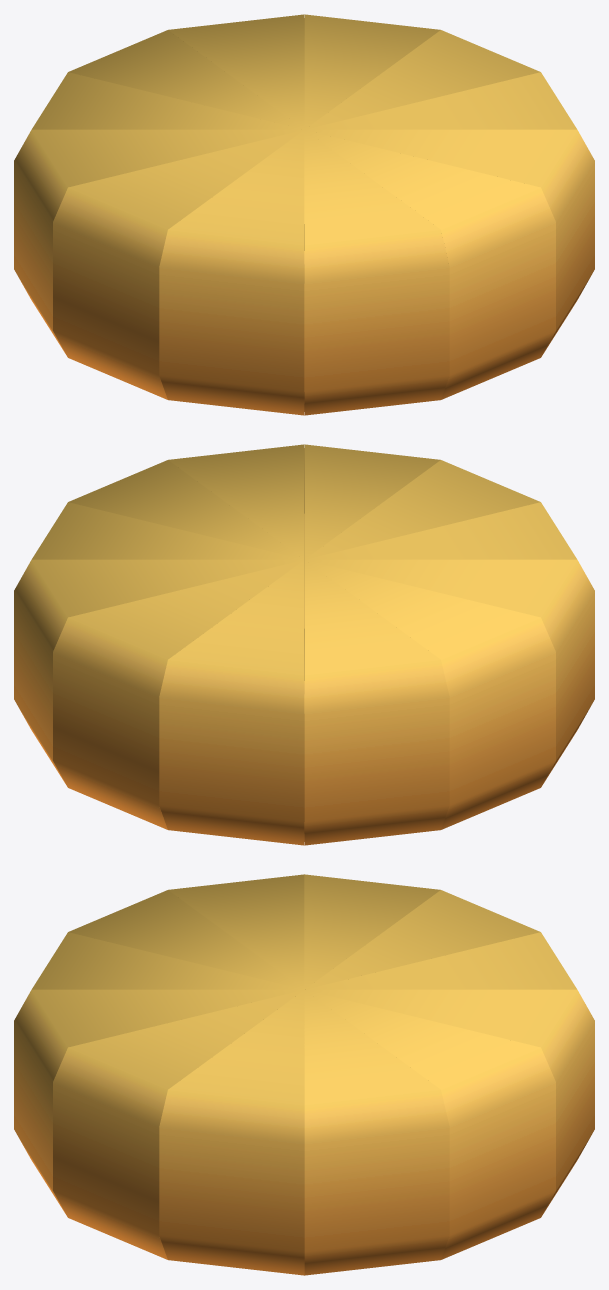
The model's file is cheese.glb.
3 renders of one model, top to bottom at view 1: azimuth 30°, elevation 25°; view 2: azimuth 150°, elevation 25°; view 3: azimuth 270°, elevation 25°, orthographic.
Parts seen in each view (by area): view 1: wedge (×12); view 2: wedge (×12); view 3: wedge (×12).
Part boxes in pixels (x1,y1,x2,y2): wedge (×12): [14, 14, 594, 415]; wedge (×12): [14, 444, 594, 845]; wedge (×12): [14, 874, 594, 1275].
Bounding box in the file's own units: 0.68 × 0.22 × 0.68.
Materials: 1 (1 with a texture image).
